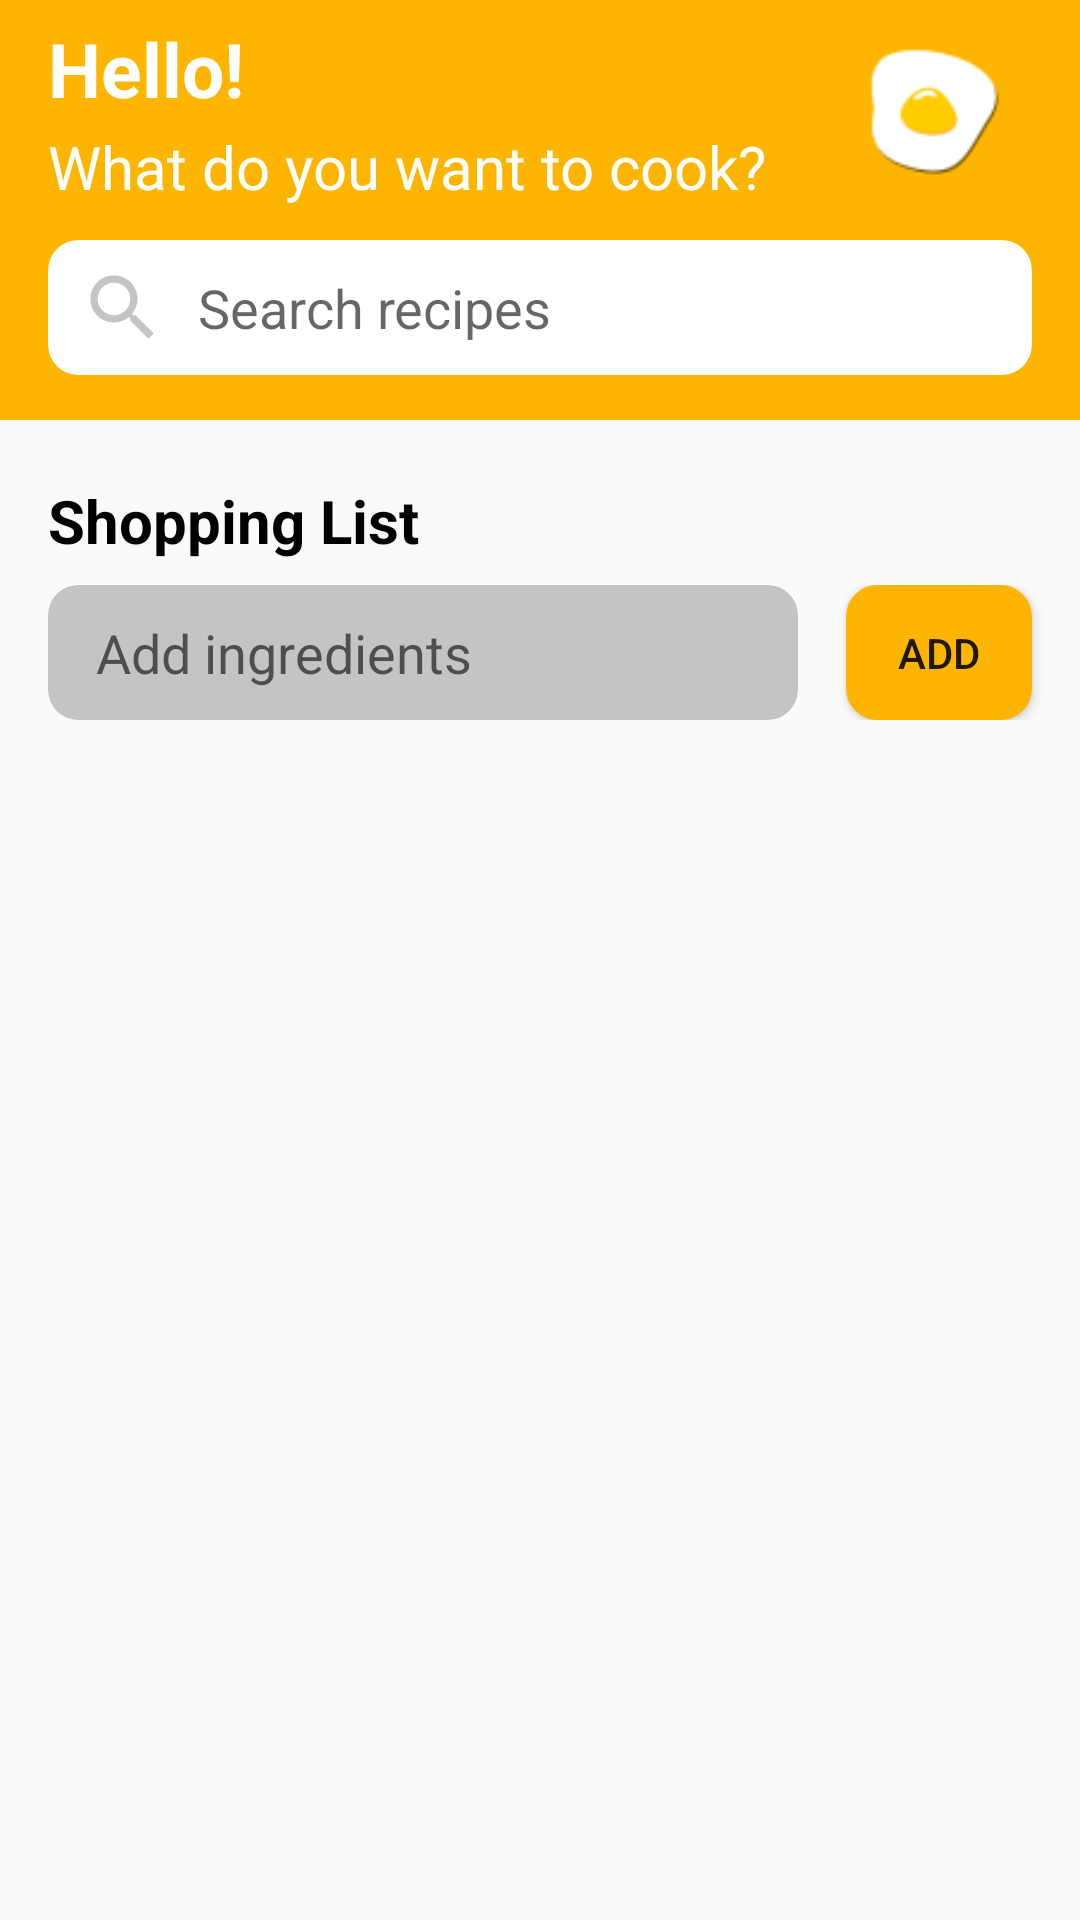

Screen size 1080*1920. Icon name, then its center in pixels as point (x, y):
egg: point (934, 112)
